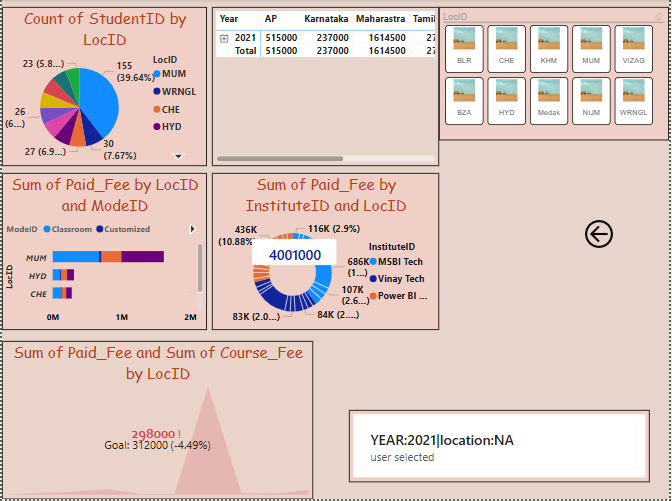

What the dashboard file says about the page in this screenshot:
{"tool":"powerbi","page":{"name":"location analysis page","canvas":[960,720],"ordinal":1},"visuals":[{"type":"pieChart","fields":{"Category":["DimLocation.LocID"],"Y":["CountNonNull(Factpayments.StudentID)"]},"box":[0,11.5,295.2,229],"z":0},{"type":"pivotTable","fields":{"Rows":["DimDate.Year","DimDate.Quarter","DimDate.Month_Name"],"Columns":["DimLocation.State","DimLocation.District","DimLocation.LocID"],"Values":["Sum(Factpayments.Paid_Fee)"]},"box":[302.4,11.5,326.9,229],"z":1000},{"type":"barChart","fields":{"Category":["DimLocation.LocID"],"Y":["Sum(Factpayments.Paid_Fee)"],"Series":["DimCourseMode.ModeID"]},"box":[0,250.6,295.2,226.1],"z":2000},{"type":"donutChart","fields":{"Category":["DimInstitute.InstituteID"],"Y":["Sum(Factpayments.Paid_Fee)"],"Series":["DimLocation.LocID"]},"box":[302.4,250.6,326.9,226.1],"z":3000},{"type":"cardVisual","fields":{"Data":["Sum(Factpayments.Paid_Fee)"]},"box":[342.7,328.3,157,72],"z":4000},{"type":"ChicletSlicer1448559807354","fields":{"Category":["DimLocation.LocID"],"Image":["DimInstitute.Institue_URL"]},"box":[629.3,11.5,331.2,191.5],"z":6000},{"type":"kpi","fields":{"Indicator":["Sum(Factpayments.Paid_Fee)"],"Goal":["Sum(Factpayments.Course_Fee)"],"TrendLine":["DimLocation.LocID"]},"box":[0,492.5,447.8,227.5],"z":7000},{"type":"cardVisual","fields":{"Data":["dax measure.user selected"]},"box":[499.7,591.8,433.4,103.7],"z":8000},{"type":"actionButton","box":[833.8,312.5,76.3,51.8],"z":9000}]}

Visuals, with their boxes in screenshot pixels (x1, y1, x2, y2), scaled from the page's 960x720 canvas onto the 672x501 screenshot:
pieChart - DimLocation.LocID x CountNonNull(Factpayments.StudentID): 0 8 207 167
pivotTable - DimDate.Year x DimDate.Quarter: 212 8 441 167
barChart - DimLocation.LocID x Sum(Factpayments.Paid_Fee): 0 174 207 332
donutChart - DimInstitute.InstituteID x Sum(Factpayments.Paid_Fee): 212 174 441 332
cardVisual - Sum(Factpayments.Paid_Fee): 240 228 350 279
ChicletSlicer1448559807354 - DimLocation.LocID x DimInstitute.Institue_URL: 441 8 671 141
kpi - Sum(Factpayments.Paid_Fee) x Sum(Factpayments.Course_Fee): 0 343 313 500
cardVisual - dax measure.user selected: 350 412 653 484
actionButton: 584 217 637 253
